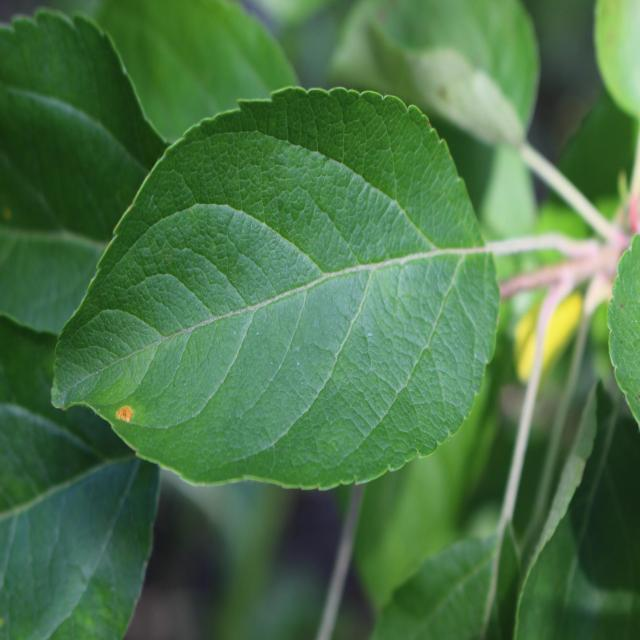Rust: (104, 391, 148, 438)
